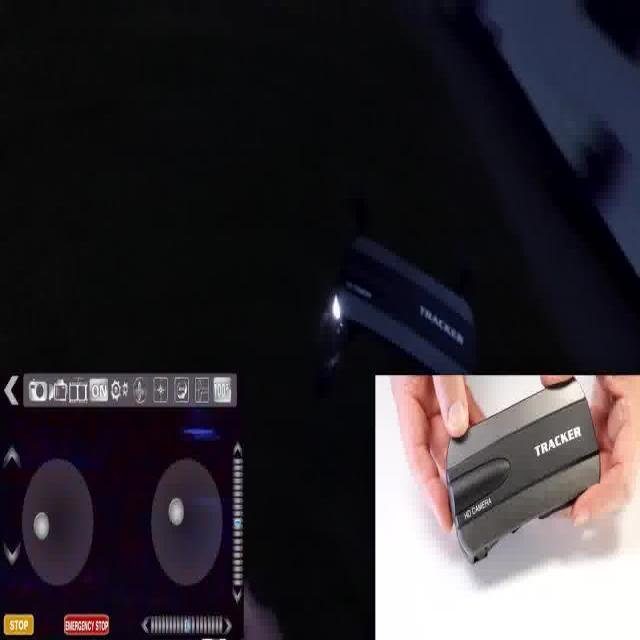drones: (306, 172, 511, 419)
